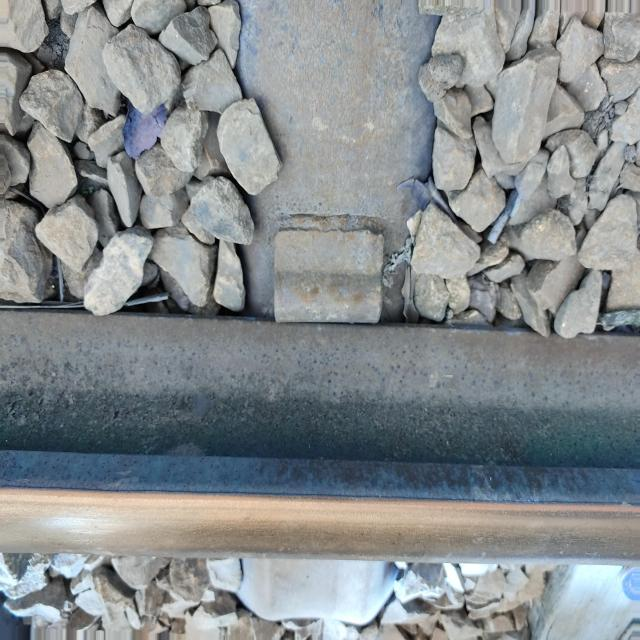Missing Fastener: (240, 195, 416, 323)
